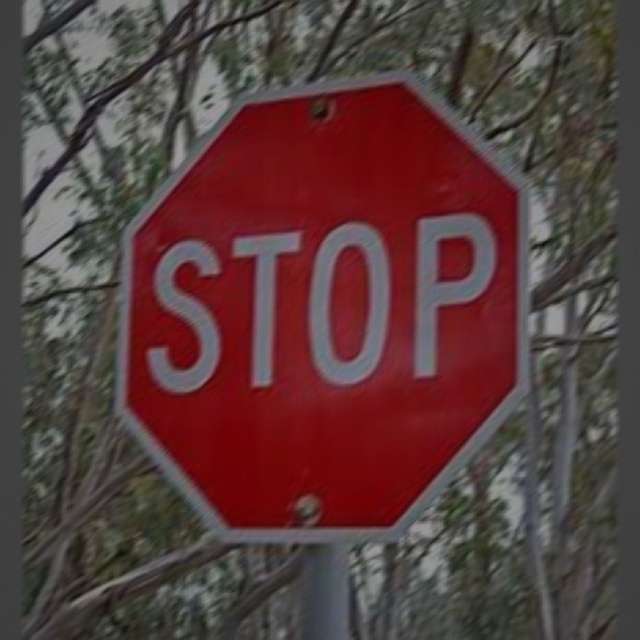Stop: (121, 74, 530, 541)
